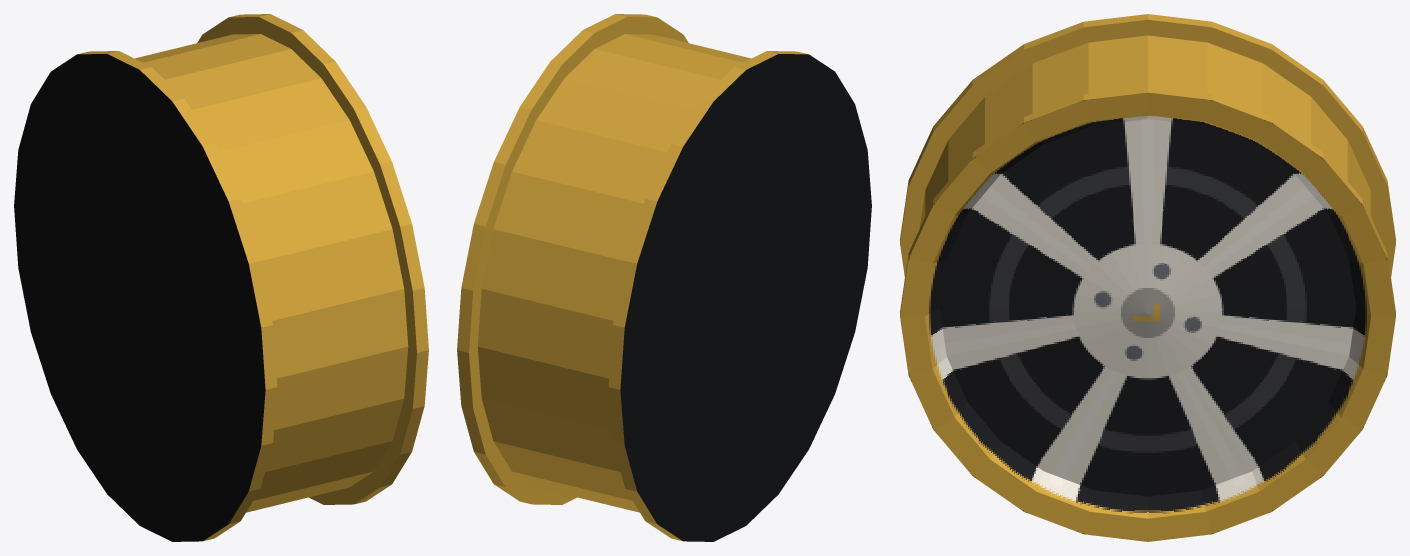
The model's file is lumiar_estrela_18.glb.
3 views of the same model, side by side, from view 1: azimuth 30°, elevation 25°; view 2: azimuth 150°, elevation 25°; view 3: azimuth 270°, elevation 25° (orthographic).
Visible parts, largest first — view 1: lumiar_estrela_18; view 2: lumiar_estrela_18; view 3: lumiar_estrela_18.
Part boxes in pixels (box(x1,y1,x2,y2)): lumiar_estrela_18: box(14, 14, 428, 541); lumiar_estrela_18: box(457, 14, 871, 541); lumiar_estrela_18: box(900, 14, 1395, 541).
Size of the model in its own units: 0.192 by 0.5121 by 0.5121.
1 material, 1 textured.
